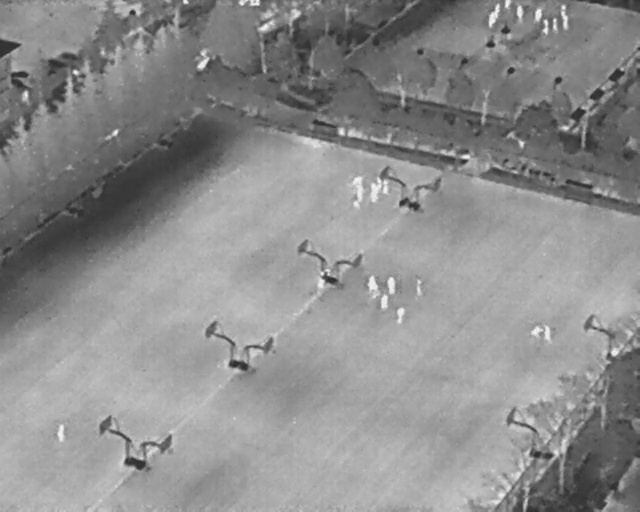Car: (7, 75, 35, 96), (43, 54, 69, 75), (58, 48, 83, 65), (11, 68, 30, 80)
Person: (55, 421, 67, 444), (351, 173, 364, 192), (368, 183, 379, 203), (386, 276, 398, 294), (531, 323, 543, 340), (396, 306, 407, 324), (366, 276, 378, 292), (379, 293, 389, 312), (354, 188, 363, 208), (487, 11, 497, 29), (544, 322, 552, 344), (561, 15, 571, 32), (515, 5, 524, 23), (416, 278, 424, 297), (382, 177, 390, 195), (551, 16, 559, 33), (376, 176, 384, 192), (542, 19, 550, 35), (493, 2, 501, 18), (535, 7, 542, 25), (561, 3, 567, 18), (504, 0, 513, 10)
